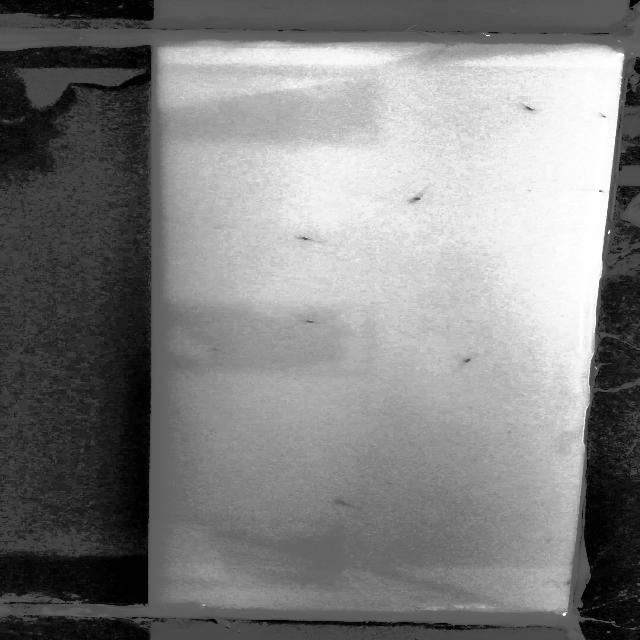shrimp: (297, 232, 328, 248), (454, 356, 484, 370), (573, 184, 611, 194), (405, 192, 431, 206), (302, 317, 327, 329), (518, 102, 545, 112), (332, 498, 356, 509), (590, 110, 612, 122)
